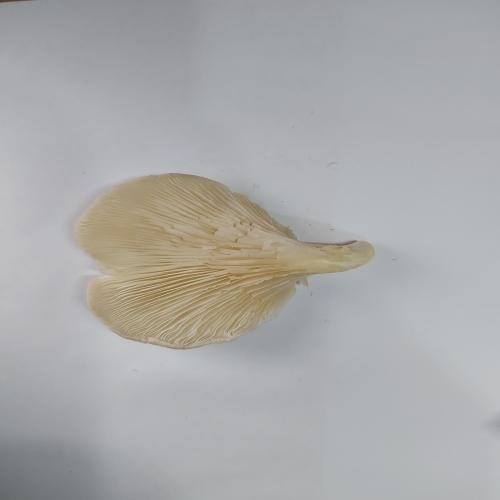Oyster Mushroom: (73, 172, 375, 350)
